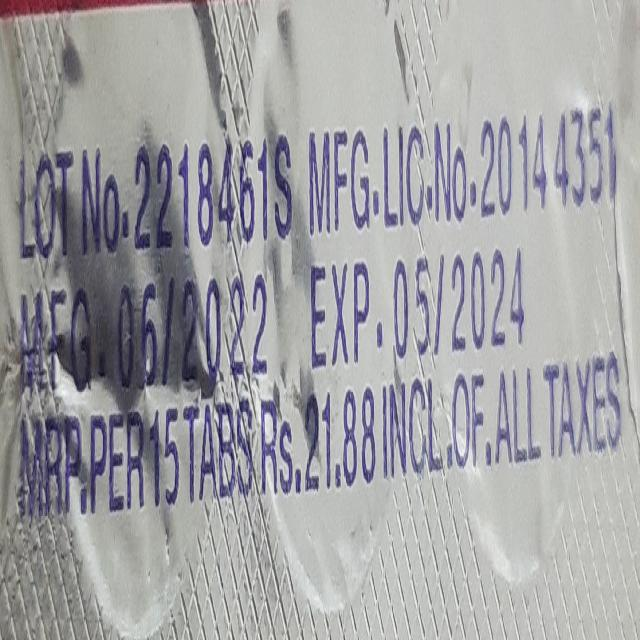sentence: (19, 348, 621, 522), (19, 104, 615, 261), (21, 238, 530, 418)
